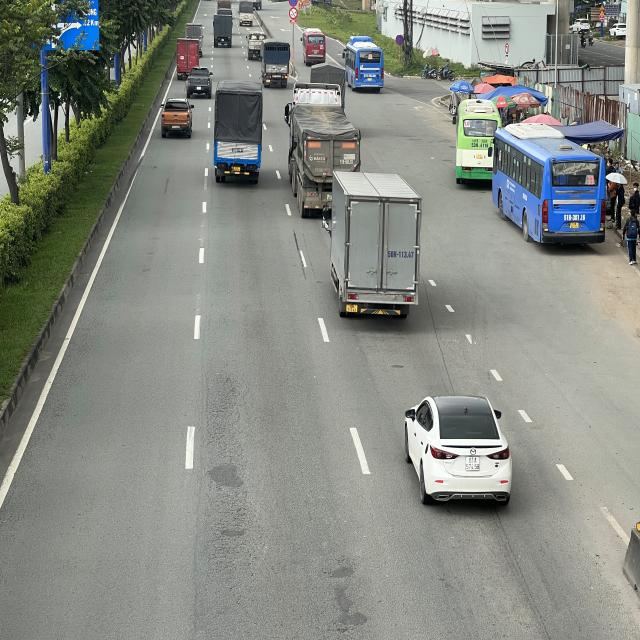car: (404, 393, 514, 506), (161, 100, 194, 140), (187, 65, 212, 97)
coach: (489, 120, 608, 248), (456, 98, 502, 187), (345, 38, 386, 92), (302, 28, 327, 65)
container: (286, 82, 362, 222)
truck: (324, 168, 425, 319), (214, 82, 263, 183), (262, 40, 289, 88), (176, 36, 202, 77), (214, 12, 234, 48), (245, 29, 265, 57), (238, 0, 254, 27)
